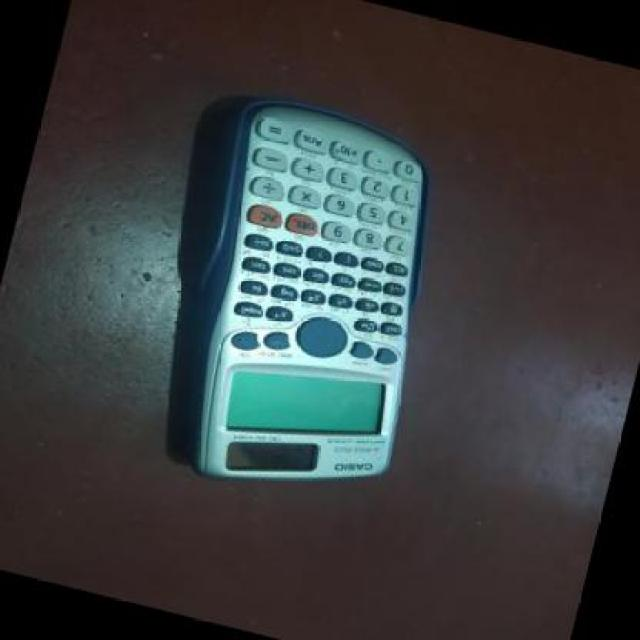Calculator: (132, 81, 476, 525)
